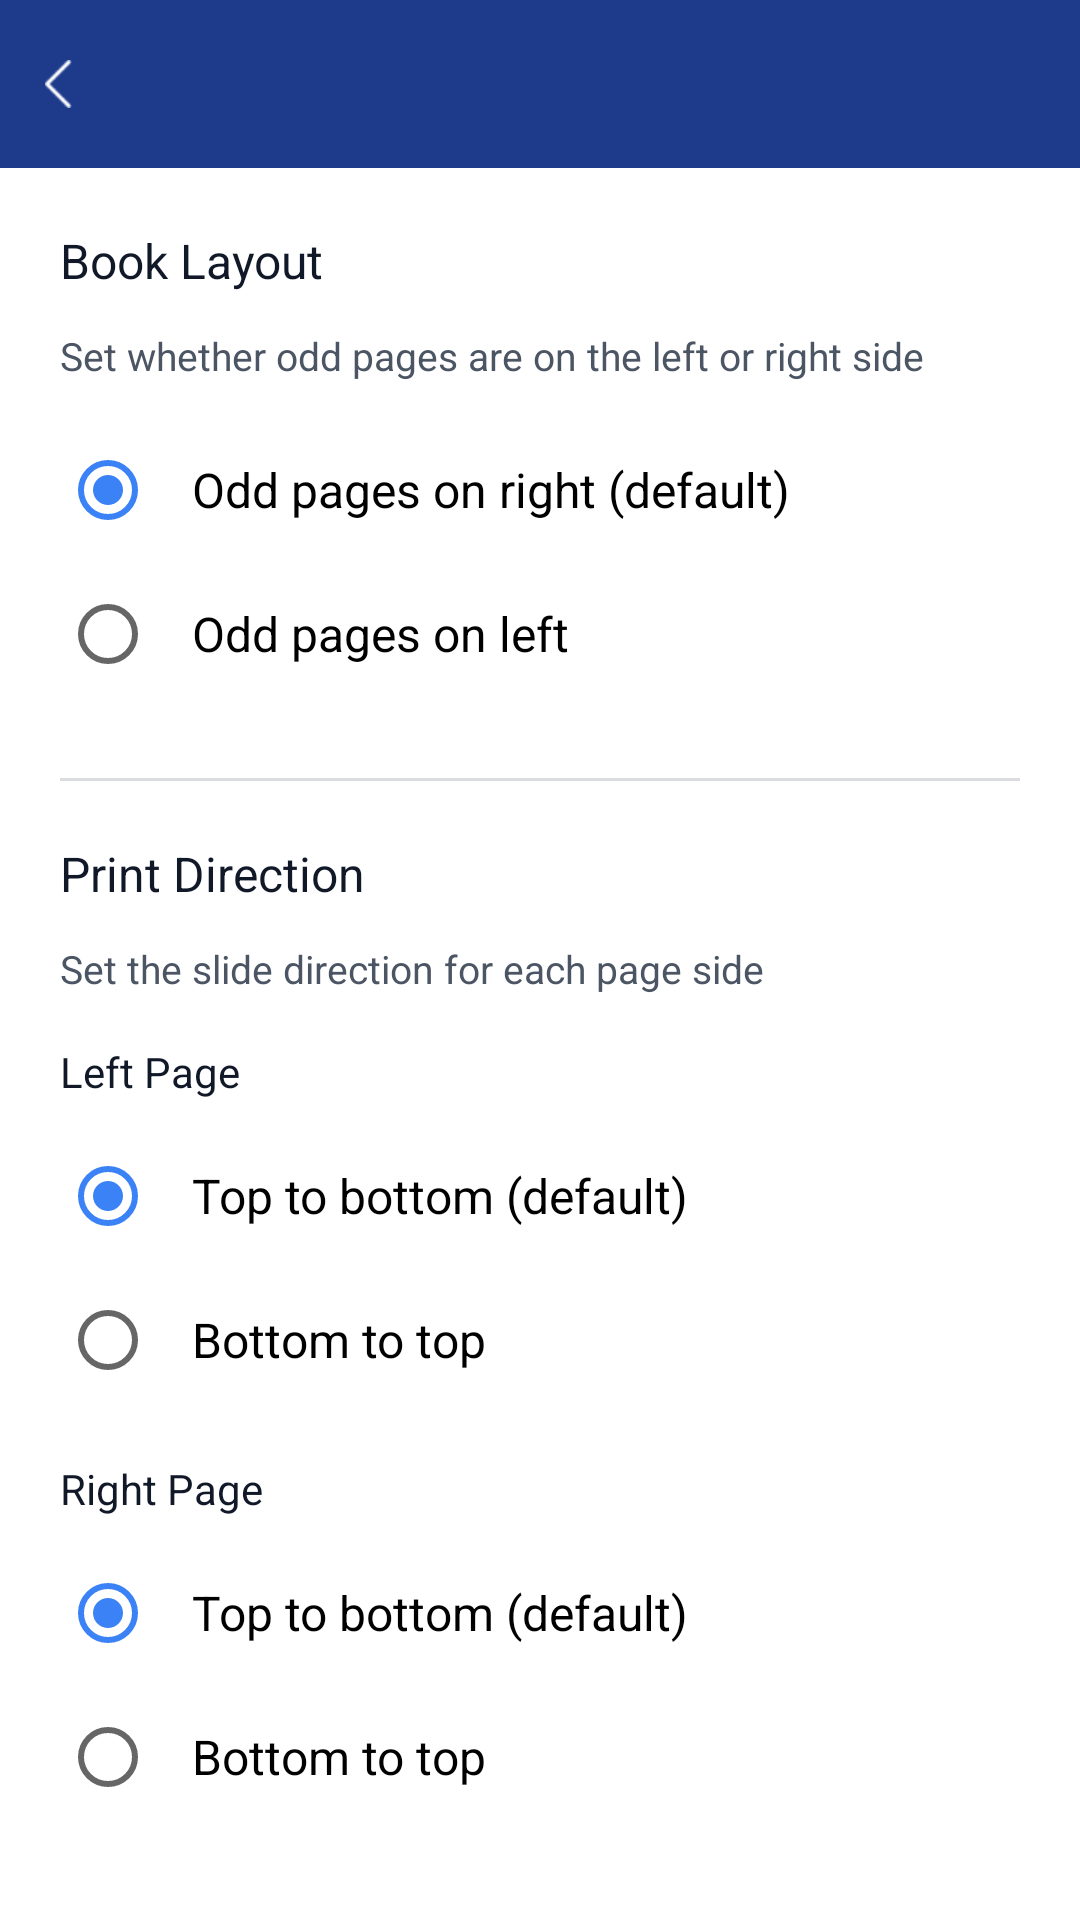

Where icons sit on this 1080×1920 app screen, as (x1, y1, x2, y2):
back: (45, 60, 72, 108)
